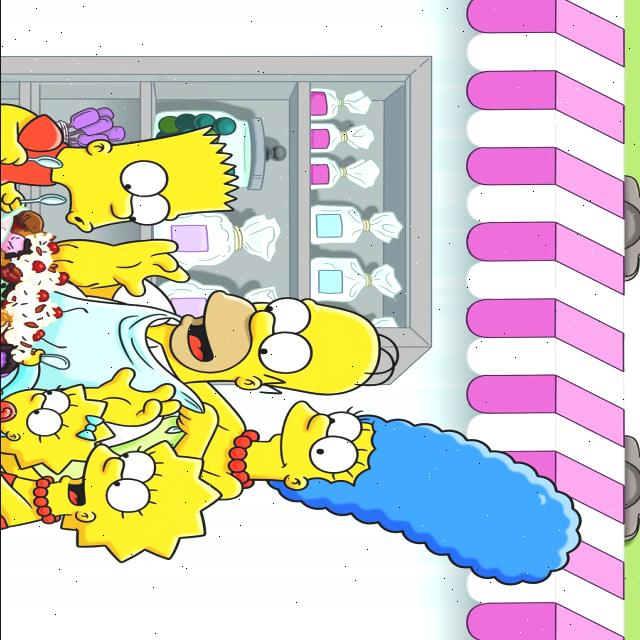Bart Simpson: (47, 124, 237, 234)
Homer Simpson: (156, 288, 402, 398)
Lisa Simpson: (30, 440, 224, 566)
Maggie Simpson: (0, 382, 114, 476)
Marge Simpson: (223, 398, 583, 587)
